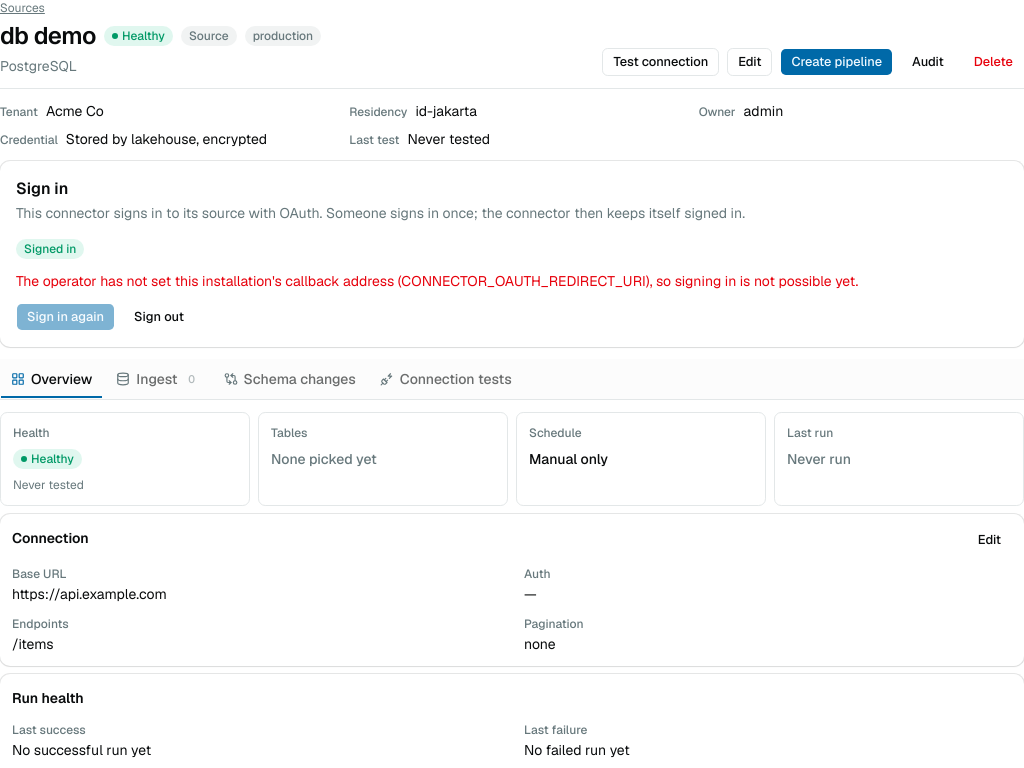
Test case: ConnectorDetailPage › tells the person, before deleting an OAuth connector, whether the provider can be told
Expected: the text "Signed in" is shown, left=16, top=239, right=84, bottom=259
Click the button "Delete".
click(993, 62)  # box left=963, top=48, right=1023, bottom=76
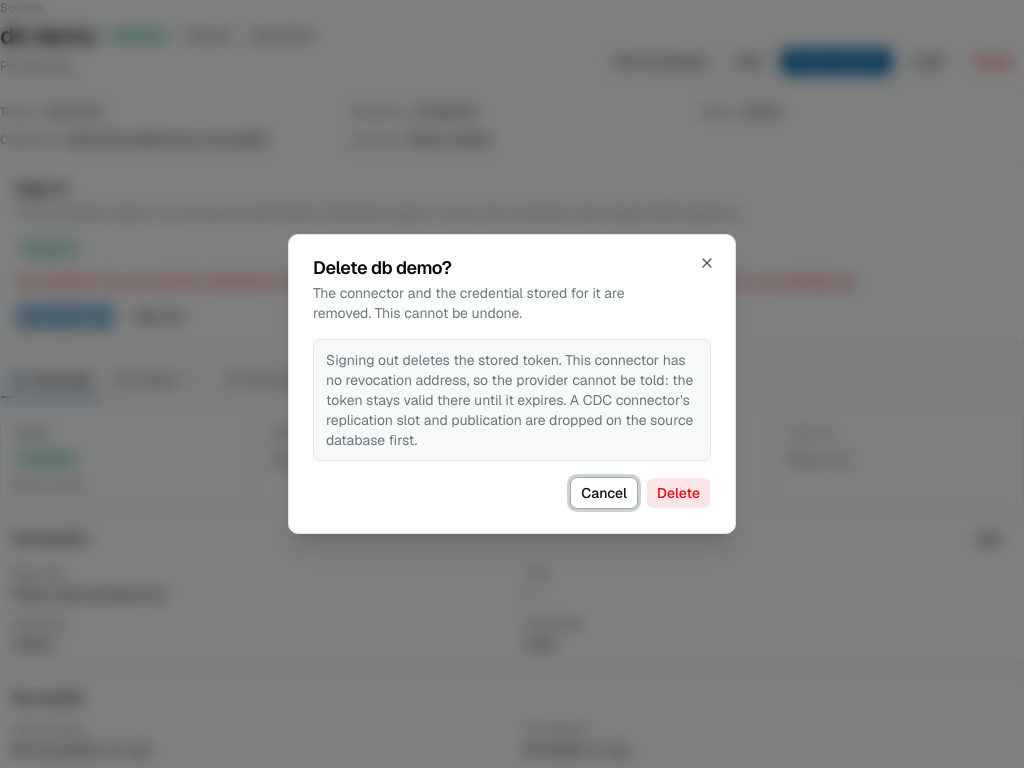
Now the text "the token stays valid there until it expires" is shown, box left=326, top=351, right=693, bottom=449
